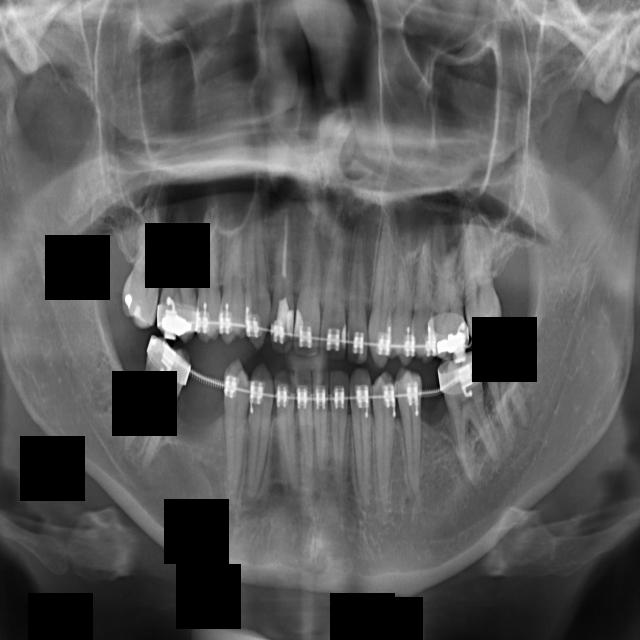AGS Medikal Implant: (350, 246, 368, 360)
AMerOss Implant: (368, 227, 400, 362)
Amalgam filling: (391, 246, 412, 349)
Anthogyr Implant: (413, 244, 438, 355)
Bicon Implant: (434, 248, 473, 354)
BioHorizons Implant: (462, 232, 502, 341)
Biomet 3i Implant: (483, 338, 529, 436)
Blue Sky Bio Implant: (437, 356, 506, 484)
Caries: (121, 224, 166, 328)
Composite filling: (404, 407, 404, 408)
Cowellmedi Implant: (372, 387, 401, 521)
Crown: (351, 372, 372, 533)
DENTSPLY Implant: (330, 375, 352, 512)
Dentatus Implant: (316, 382, 332, 508)
Dentis Implant: (299, 389, 311, 487)
Dentium Implant: (277, 386, 300, 486)
Euroteknika Implant: (249, 380, 276, 494)
Filling: (225, 374, 245, 517)
Hiossen Implant: (154, 236, 205, 337)
Implant: (155, 414, 155, 415)
MIS Implant: (200, 210, 220, 332)
Mandible: (224, 233, 242, 334)
Maxilla: (247, 214, 269, 346)
Megagen Implant: (270, 225, 301, 340)
Neodent Implant: (292, 226, 326, 352)
Neoss Implant: (324, 241, 345, 348)
